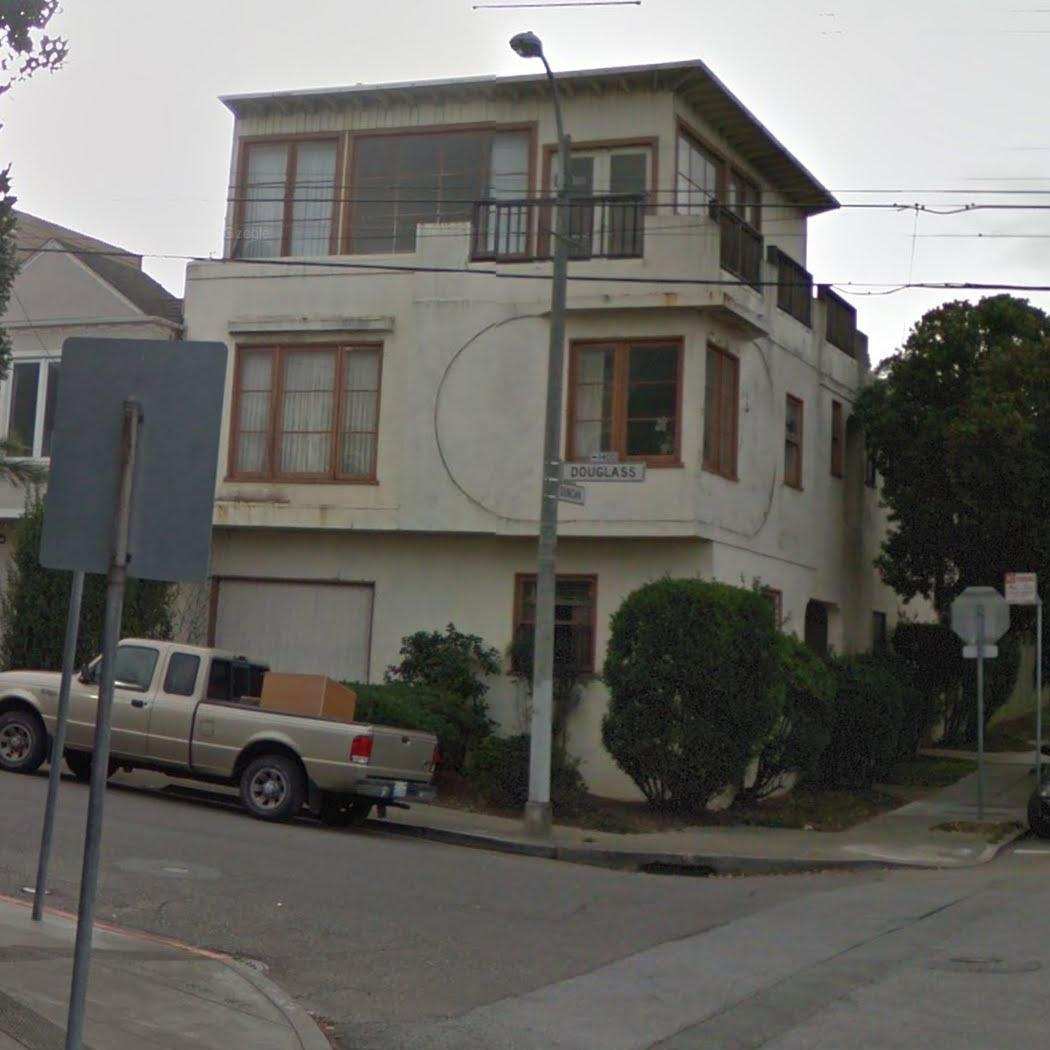No Parking: (1000, 569, 1040, 608)
